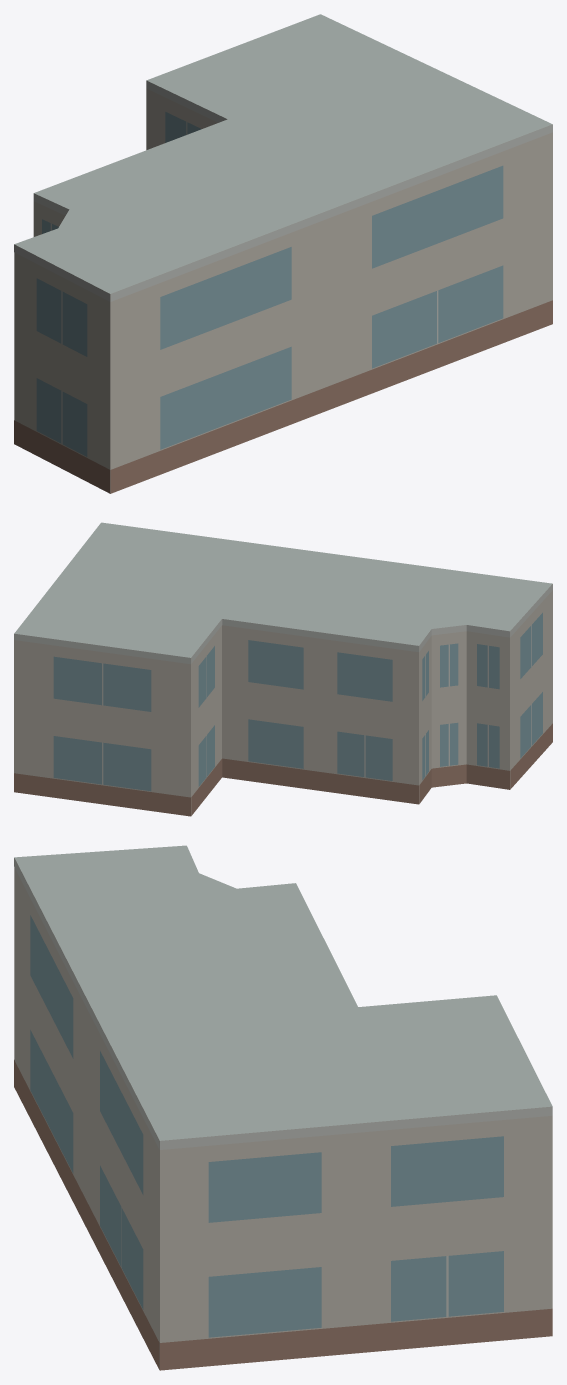
Rendered from survey-upis-32852085.glb.
3 views of the same model, one above another, from view 1: azimuth 30°, elevation 25°; view 2: azimuth 150°, elevation 25°; view 3: azimuth 270°, elevation 25° (orthographic). The views are drawn at different scales.
Visible parts, largest first — view 1: survey-upis-32852085.tmp; view 2: survey-upis-32852085.tmp; view 3: survey-upis-32852085.tmp.
Boxes of the visible parts, x1,y1,x2,y2 form: survey-upis-32852085.tmp: [14, 14, 552, 493]; survey-upis-32852085.tmp: [14, 522, 552, 816]; survey-upis-32852085.tmp: [14, 845, 552, 1370].
Bounding box in the file's own units: 16.85 × 6.1 × 12.98.
